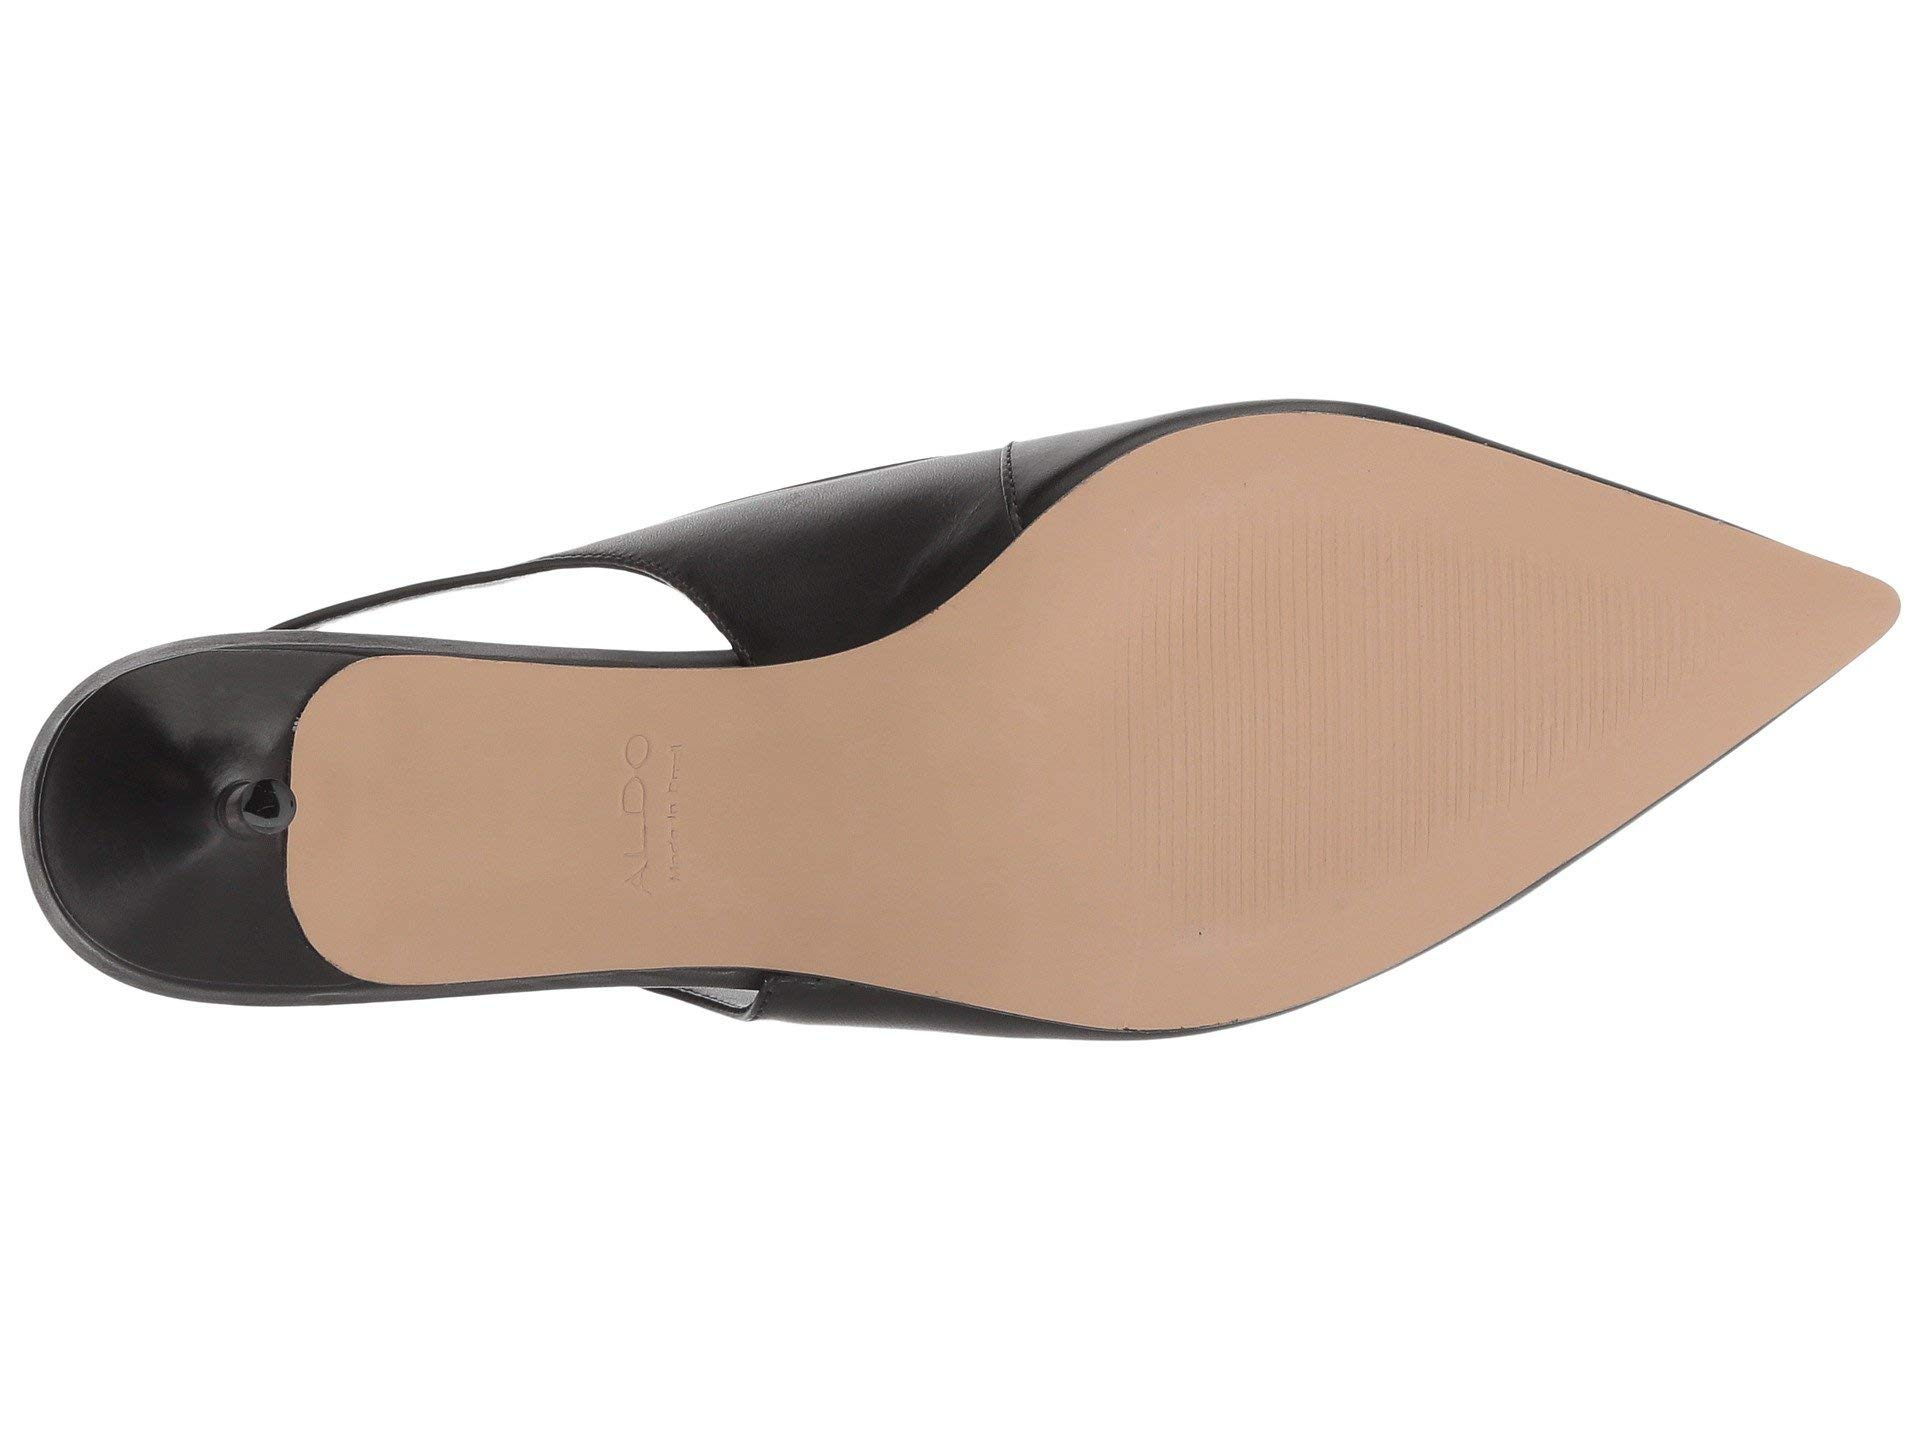circle: (571, 703, 735, 929), (225, 756, 311, 859)
line: (1126, 499, 1584, 806)
text: (571, 703, 735, 929)
